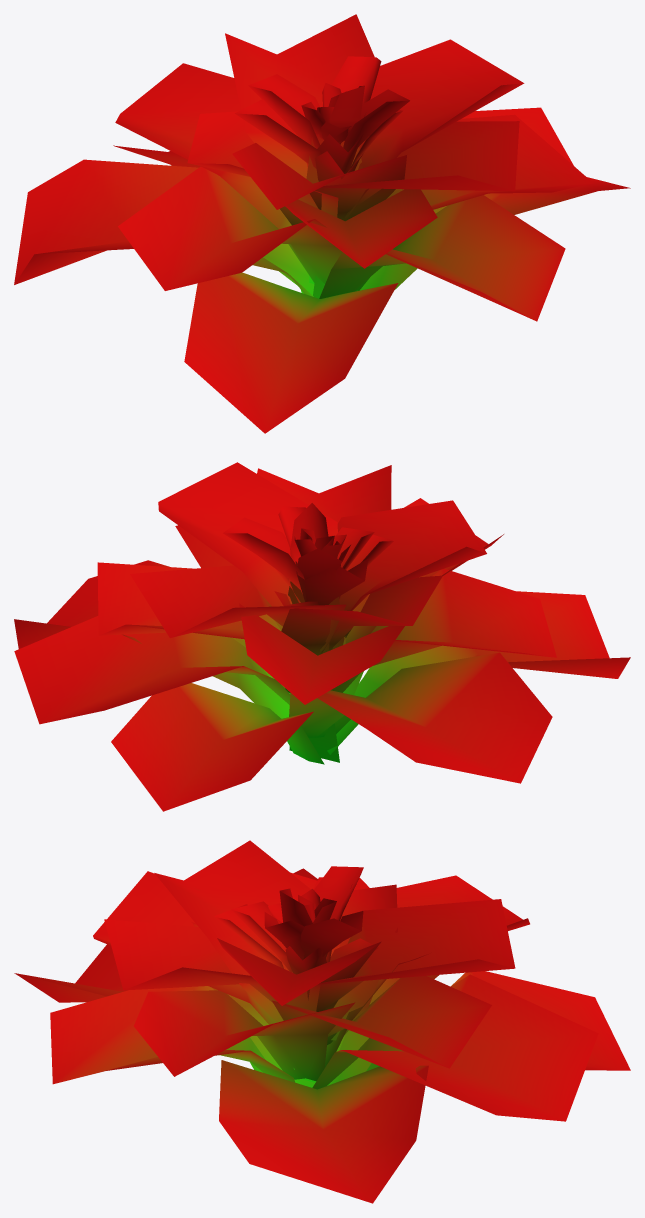
Rendered from White Ornamental Kale_LOD4_Var9_ue3ldcgja.fbx.
The picture shows the model from 3 angles, top to bottom: view 1: azimuth 30°, elevation 25°; view 2: azimuth 150°, elevation 25°; view 3: azimuth 270°, elevation 25°; orthographic projection. The views are drawn at different scales.
Parts seen in each view (by area): view 1: _c9fc_Var9_LOD4; view 2: _c9fc_Var9_LOD4; view 3: _c9fc_Var9_LOD4.
Boxes of the visible parts, <box> form: _c9fc_Var9_LOD4: <box>14,14,630,433</box>; _c9fc_Var9_LOD4: <box>14,462,630,811</box>; _c9fc_Var9_LOD4: <box>14,840,630,1203</box>.
Size of the model in its own units: 83.54 by 36.58 by 81.26.
